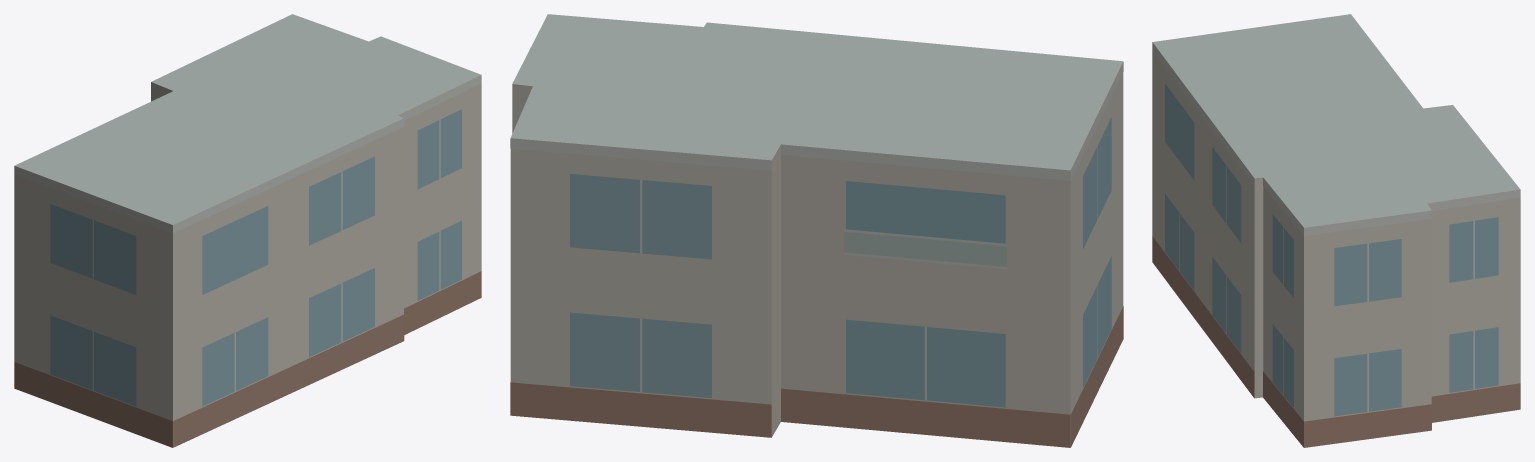
The model's file is survey-upis-32974172.glb.
3 renders of one model, left to right at view 1: azimuth 30°, elevation 25°; view 2: azimuth 150°, elevation 25°; view 3: azimuth 270°, elevation 25°, orthographic. The views are drawn at different scales.
Parts seen in each view (by area): view 1: survey-upis-32974172.tmp; view 2: survey-upis-32974172.tmp; view 3: survey-upis-32974172.tmp.
Part boxes in pixels (x1,y1,x2,y2): survey-upis-32974172.tmp: (14, 14, 481, 447); survey-upis-32974172.tmp: (510, 14, 1123, 447); survey-upis-32974172.tmp: (1152, 14, 1520, 447).
Size of the model in its own units: 13.56 by 6.5 by 9.87.
